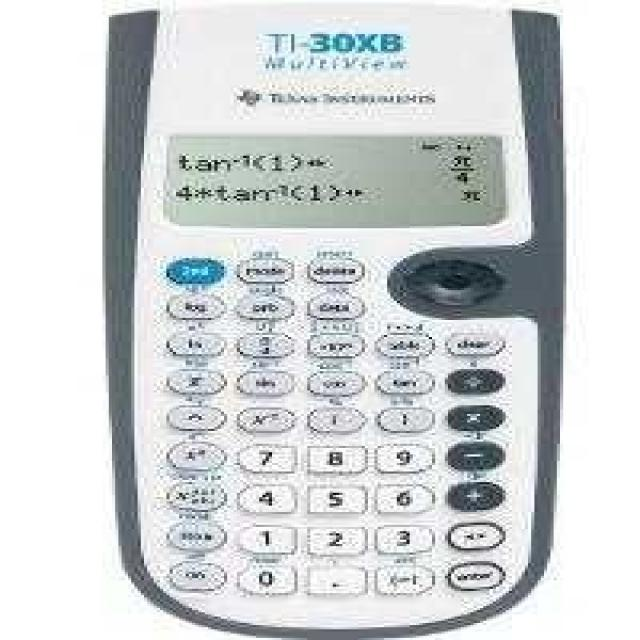Calculator: (103, 0, 566, 638)
